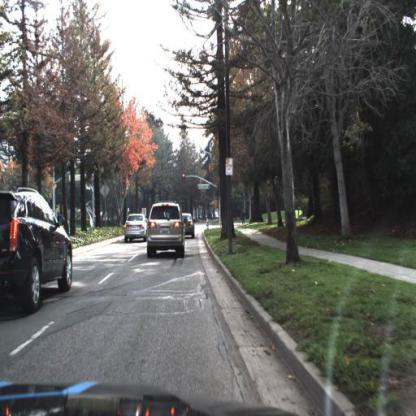car: (1, 183, 76, 313), (145, 197, 190, 260), (123, 214, 150, 244), (185, 213, 196, 240)
pedestrian: (242, 209, 247, 225)
trafficLight-Red: (183, 173, 187, 185)
